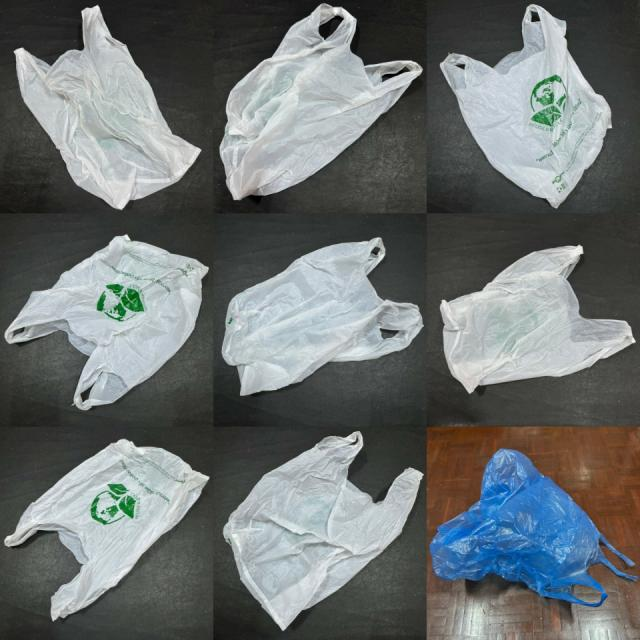Single-layer Plastic: (220, 4, 421, 200), (224, 431, 422, 629), (15, 6, 200, 208), (5, 440, 209, 619), (5, 235, 209, 410), (440, 5, 611, 207), (430, 449, 638, 606), (221, 238, 422, 394), (440, 246, 635, 392)
